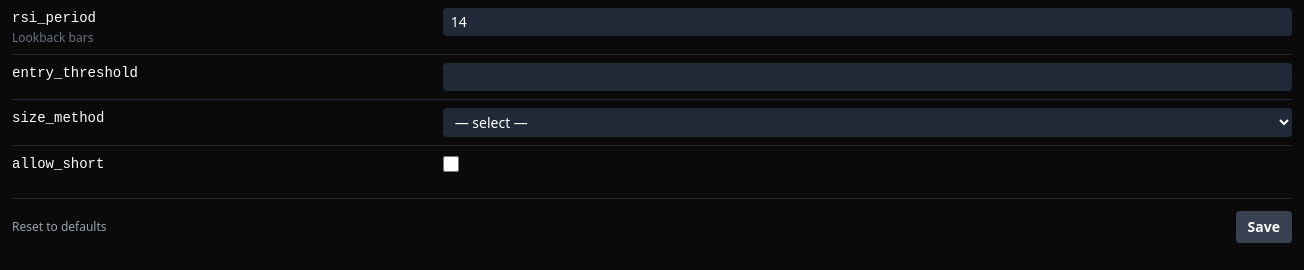
Test: ParamForm › blocks Save and shows validation error when value is above max
Replace the text in the number field showing "14" in the row of "rsi_period" with "200" at x=867, y=22, box [443,8,1292,36]
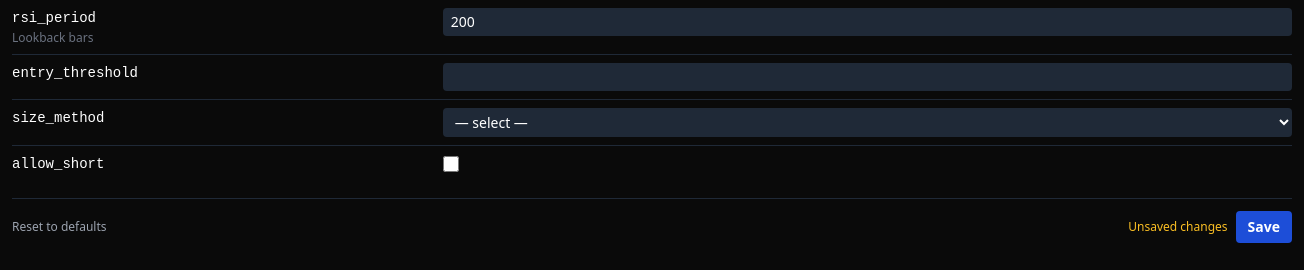
Click the button "Save" at x=1264, y=227, box [1236,211,1292,243]
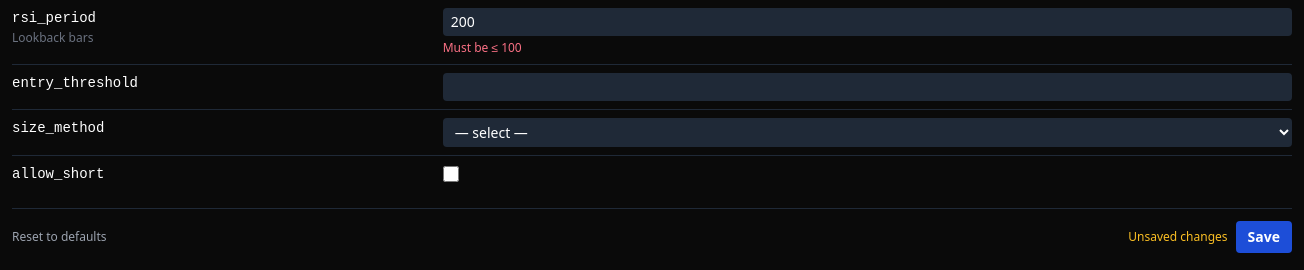
Now the text "Must be ≤ 100" is shown, box [443,39,522,56]
